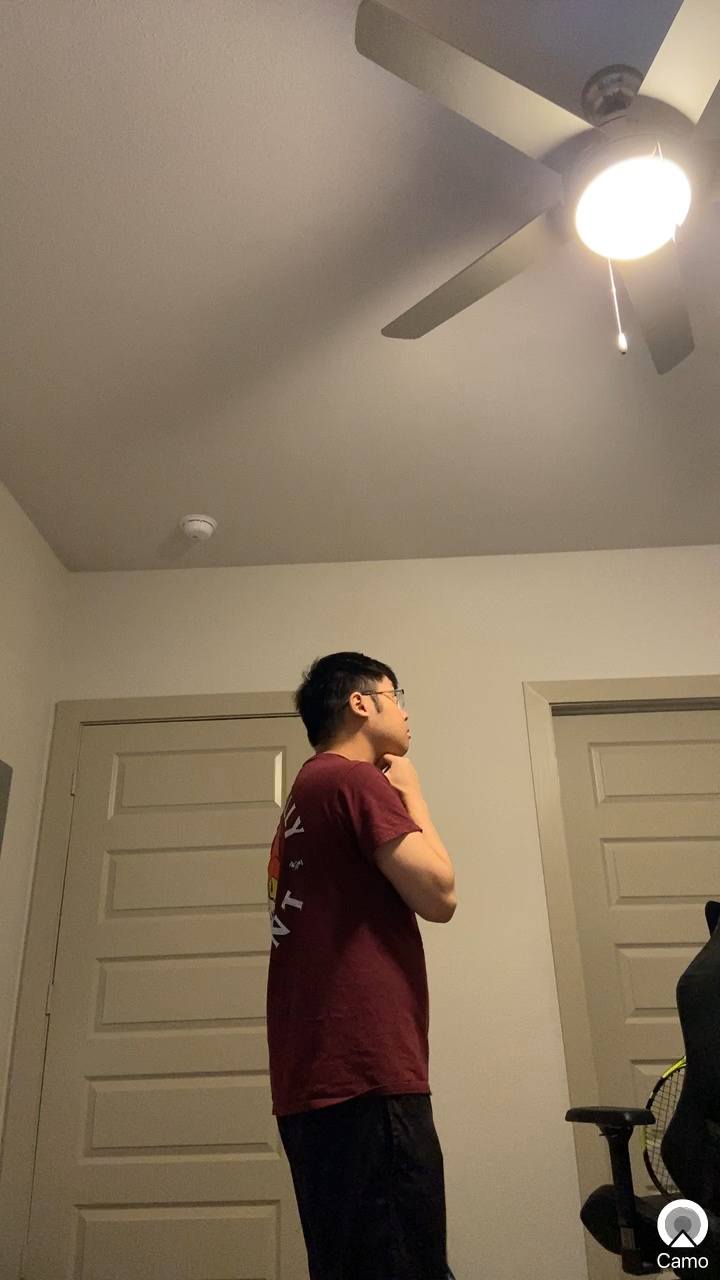Person: (229, 651, 498, 1280)
